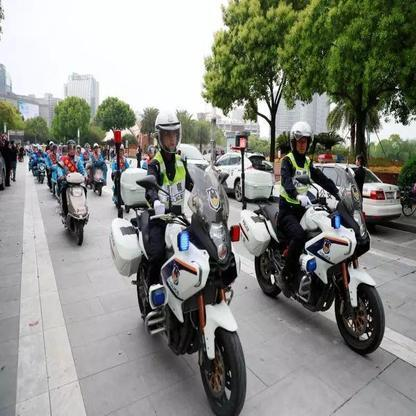target: (107, 106, 249, 412), (238, 118, 388, 357)
